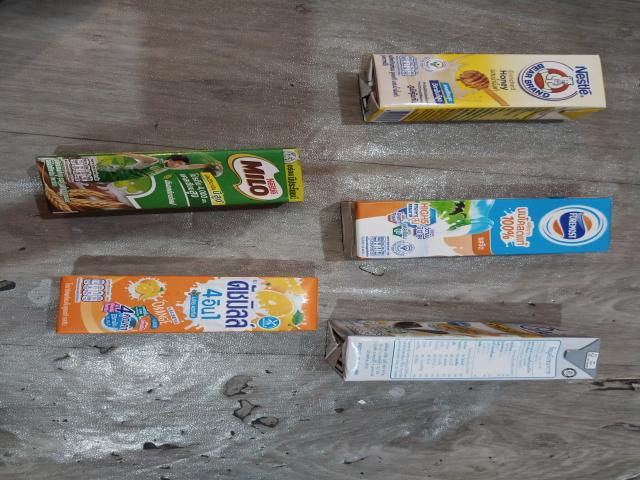drink_box: (324, 314, 600, 385), (48, 272, 320, 341), (337, 193, 619, 258), (358, 52, 614, 123), (24, 151, 298, 211)
